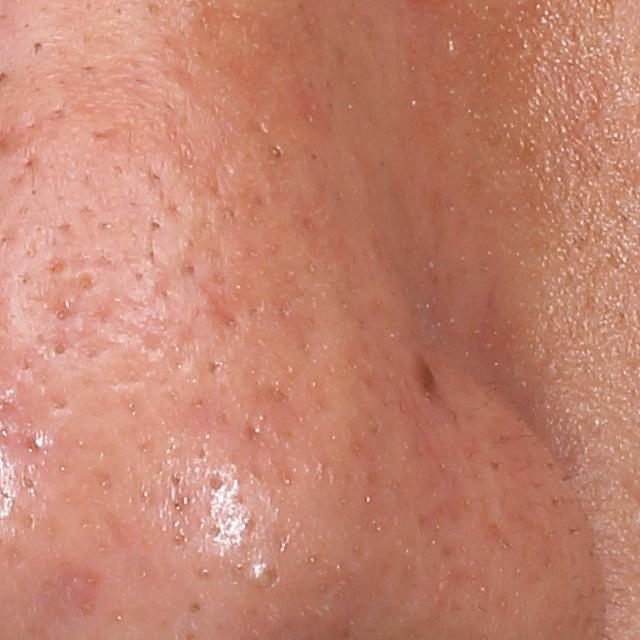comedo: (50, 341, 69, 358), (268, 143, 284, 160), (149, 217, 162, 230)
nevus: (413, 360, 441, 400)
other: (246, 559, 277, 587)
